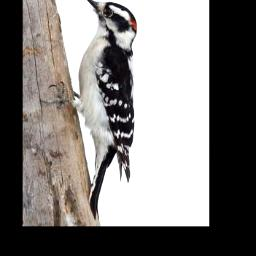Woodpecker: (39, 0, 139, 220)
